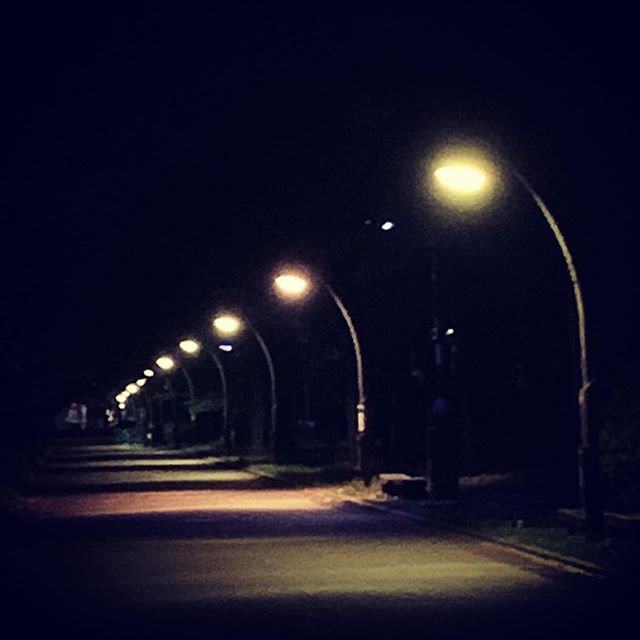light pole: (420, 132, 602, 526), (272, 267, 380, 455), (209, 297, 291, 458), (175, 336, 232, 451), (154, 353, 198, 443), (138, 368, 172, 433)
street: (21, 437, 539, 640)
